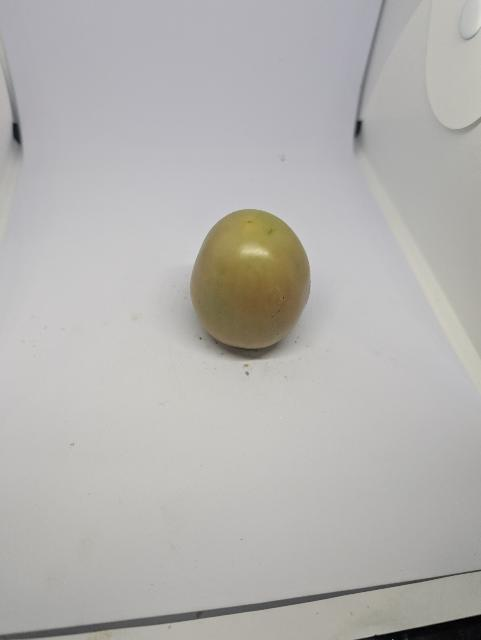breaker: (182, 197, 321, 369)
